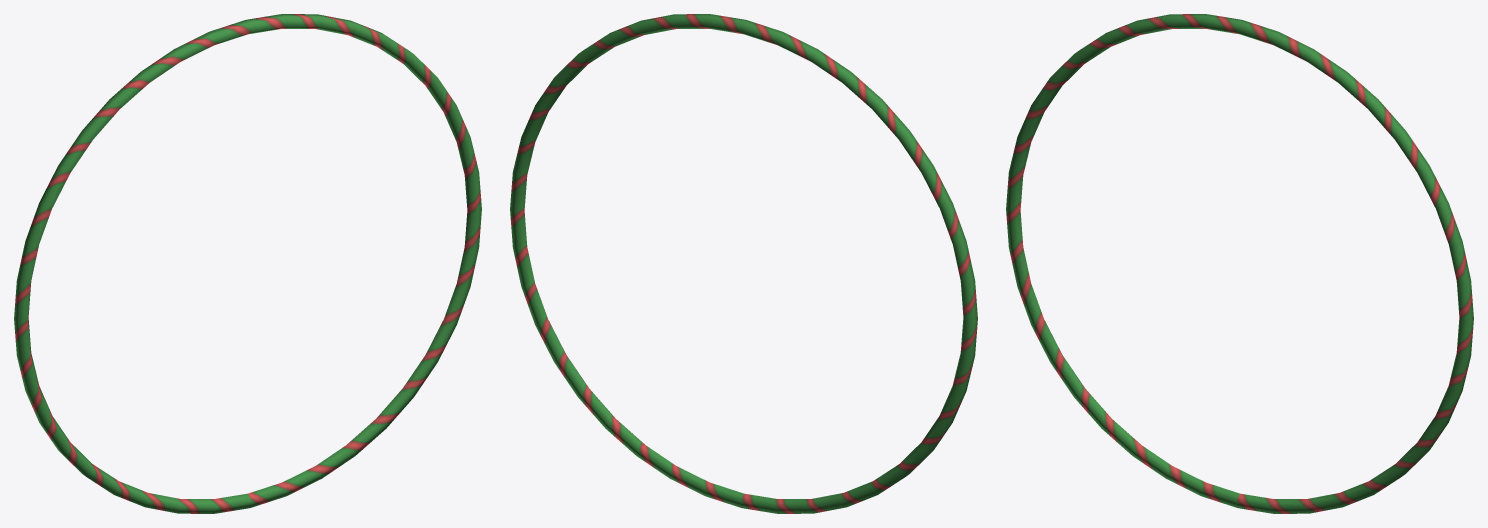
Rendered from HulaHoop_Small1.fbx.
The picture shows the model from 3 angles, left to right: view 1: azimuth 30°, elevation 25°; view 2: azimuth 150°, elevation 25°; view 3: azimuth 330°, elevation 25°; orthographic projection.
Visible parts, largest first — view 1: HulaHoop_Small1; view 2: HulaHoop_Small1; view 3: HulaHoop_Small1.
Boxes of the visible parts, x1=… form: HulaHoop_Small1: x1=14, y1=14, x2=481, y2=513; HulaHoop_Small1: x1=510, y1=14, x2=977, y2=513; HulaHoop_Small1: x1=1006, y1=14, x2=1473, y2=513.
Bounding box in the file's own units: 34.72 × 34.72 × 0.9682.
